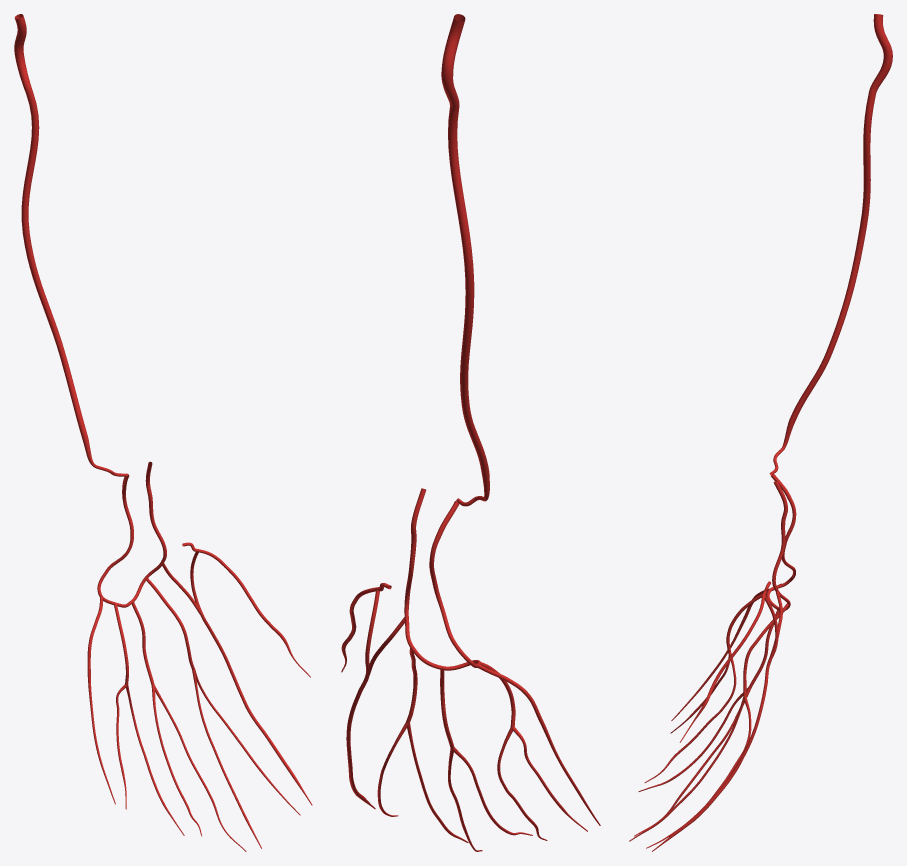
File: circulatorio-ulnar-veins-l.glb
3 renders of one model, left to right at view 1: azimuth 30°, elevation 25°; view 2: azimuth 150°, elevation 25°; view 3: azimuth 270°, elevation 25°, orthographic. The views are drawn at different scales.
Visible parts, largest first — view 1: Palmar digital veins.l, Ulnar veins.l, Superficial venous palmar arch.l; view 2: Palmar digital veins.l, Ulnar veins.l, Superficial venous palmar arch.l; view 3: Palmar digital veins.l, Ulnar veins.l, Superficial venous palmar arch.l.
Boxes of the visible parts, box(x1,y1,x2,y2) form: Palmar digital veins.l: box(87, 542, 312, 851); Ulnar veins.l: box(14, 14, 127, 476); Superficial venous palmar arch.l: box(97, 461, 166, 607); Palmar digital veins.l: box(341, 583, 600, 851); Ulnar veins.l: box(441, 14, 489, 506); Superficial venous palmar arch.l: box(404, 488, 481, 670); Palmar digital veins.l: box(629, 581, 789, 851); Ulnar veins.l: box(769, 14, 892, 475); Superficial venous palmar arch.l: box(766, 474, 796, 610).
Size of the model in its own units: 0.0999 by 0.3671 by 0.1137.
